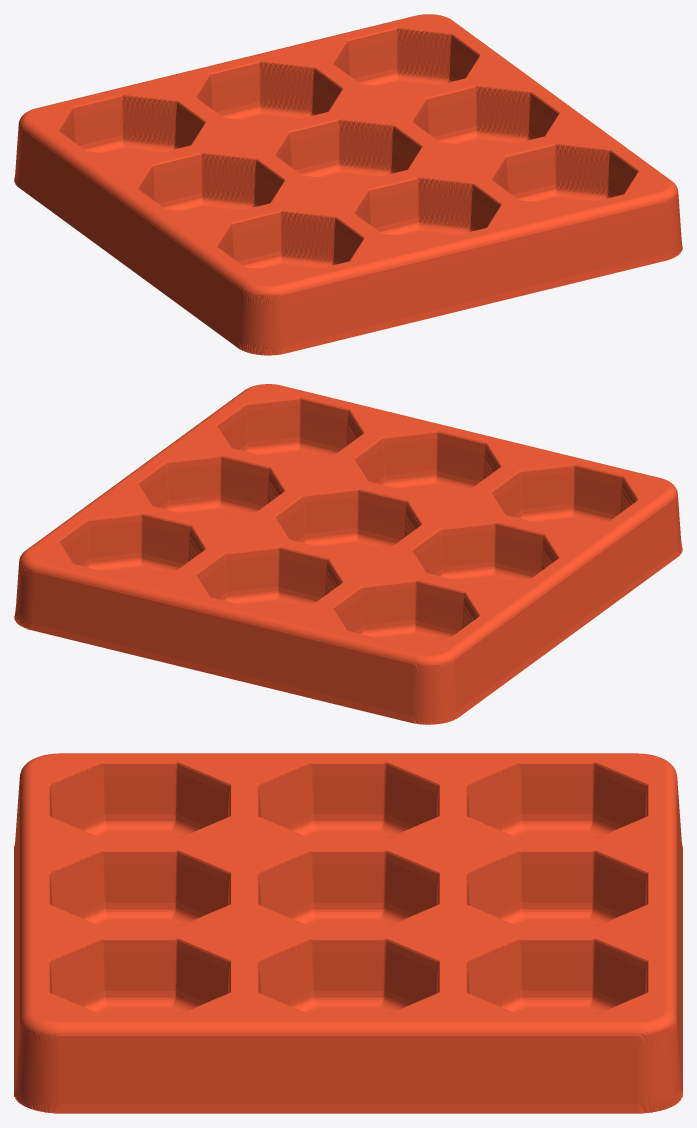
File: mold.glb
3 views of the same model, one above another, from view 1: azimuth 30°, elevation 25°; view 2: azimuth 150°, elevation 25°; view 3: azimuth 270°, elevation 25° (orthographic). The views are drawn at different scales.
Visible parts, largest first — view 1: geometry_0; view 2: geometry_0; view 3: geometry_0.
Part boxes in pixels (<box>): geometry_0: <box>14,14,682,355</box>; geometry_0: <box>14,384,682,724</box>; geometry_0: <box>14,753,682,1113</box>.
Bounding box in the file's own units: 0.1317 × 0.0182 × 0.1317.
